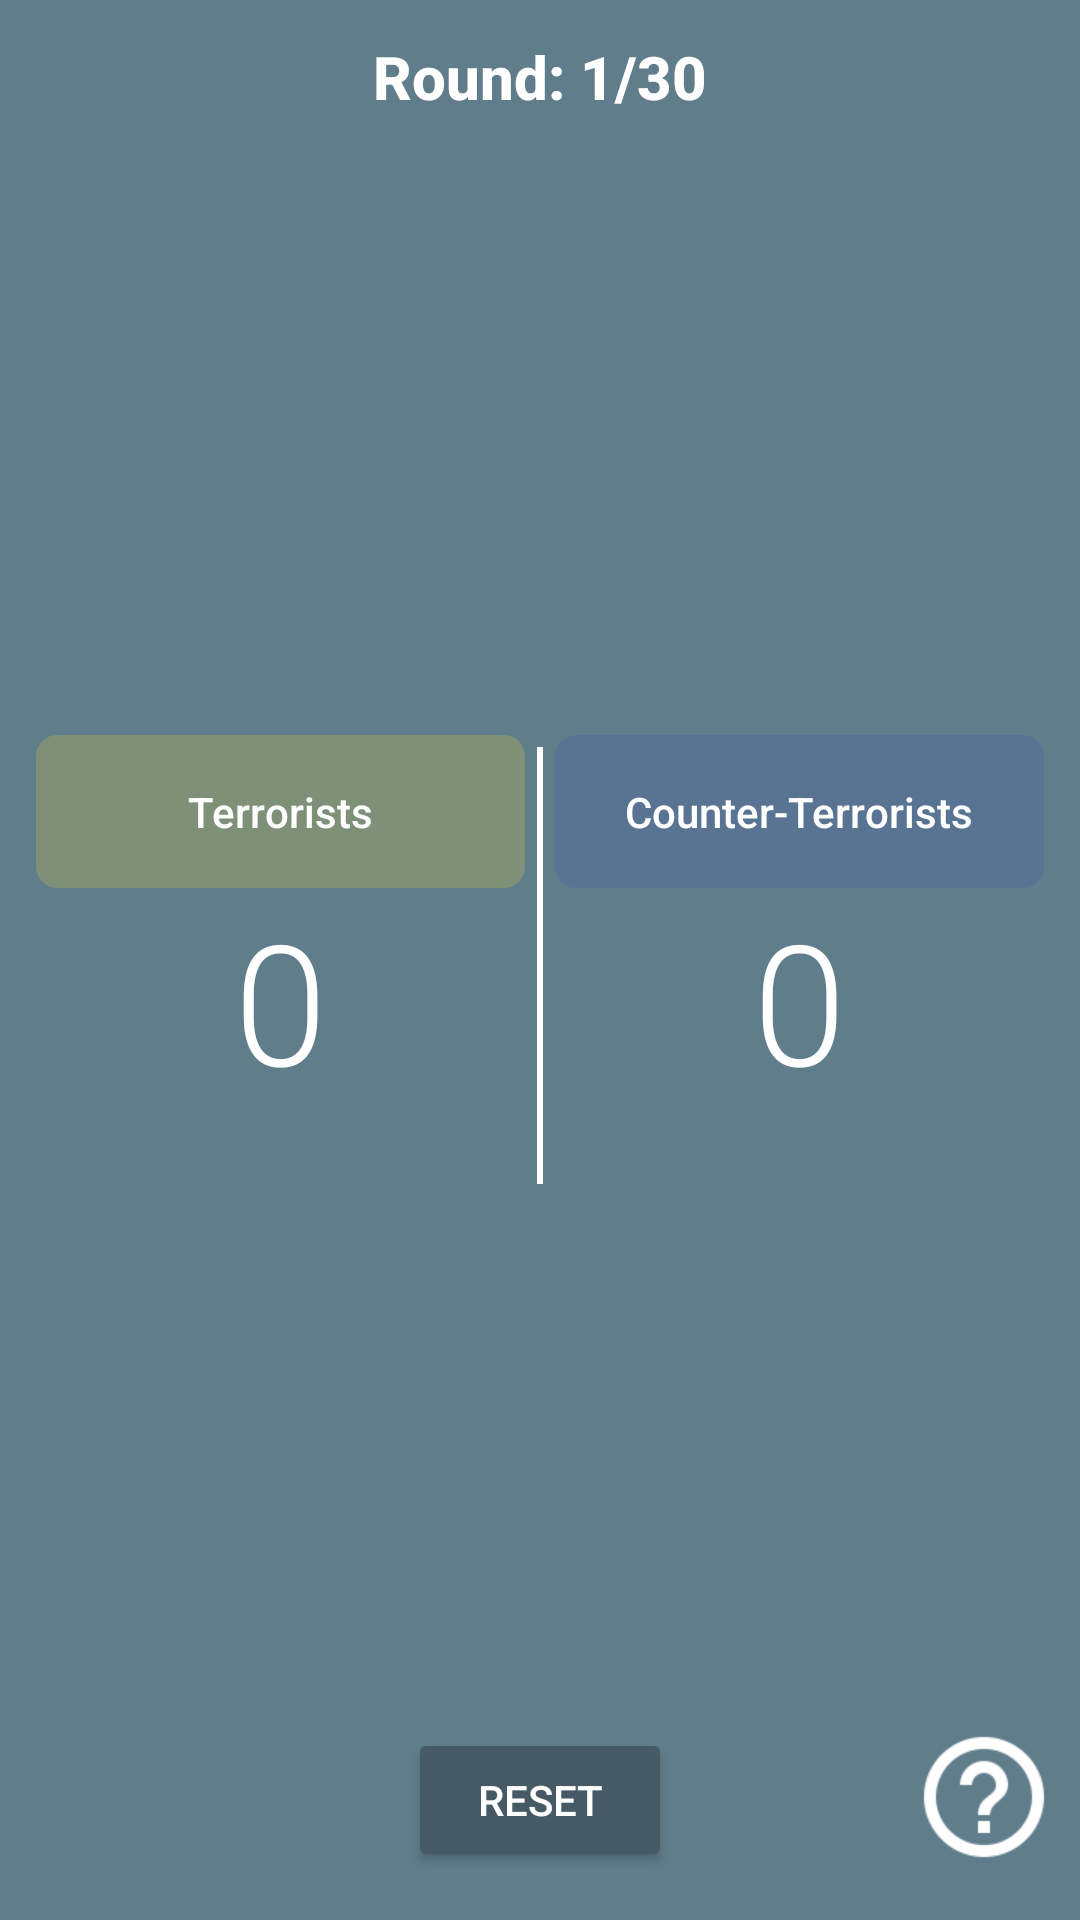

Where icons sit on this 1080 × 1920 app screen, as bbox=[x1, y1, x2, y2]:
help wh: bbox=[923, 1736, 1045, 1858]
